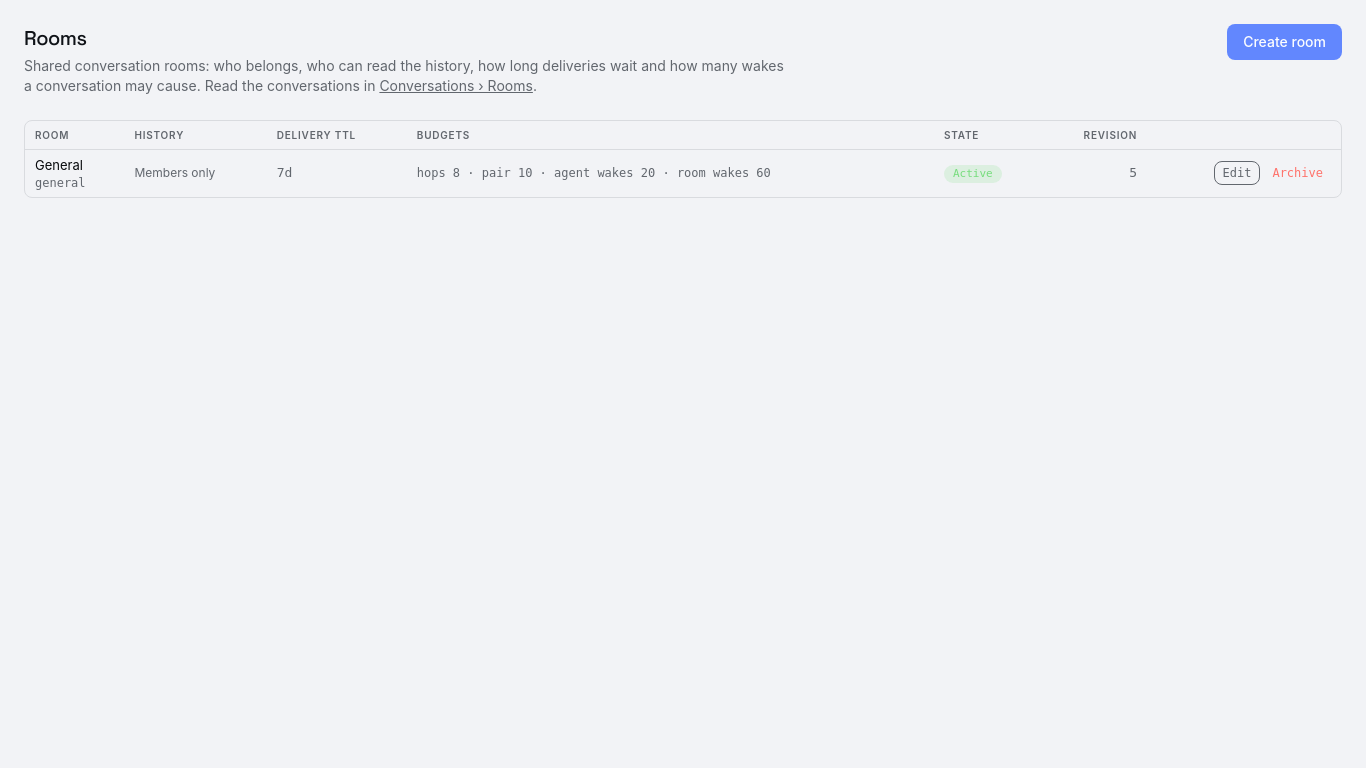
Scenario: archive › the dialog shows the preview counts and sends the reviewed revision
Step 1. Click the button with aria-label "Archive general" → click(1298, 173), box 1264,161 -> 1331,185
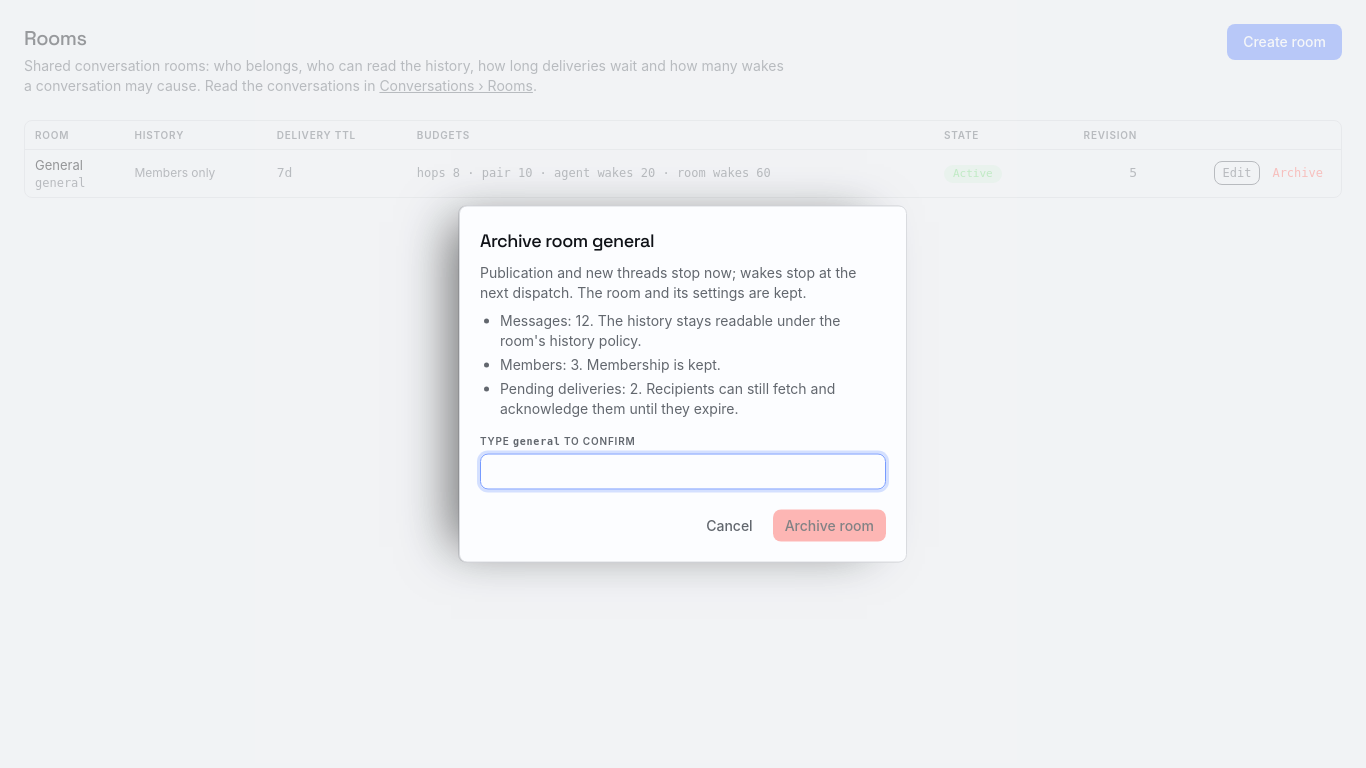
Check: the list named "Archive effects" shows "Messages: 12. The history stays readable", box 500,312 -> 840,416
Check: the list named "Archive effects" shows "Members: 3. Membership is kept.", box 500,312 -> 840,416
Check: the list named "Archive effects" shows "Pending deliveries: 2. Recipients can still fetch and acknowledge them", box 500,380 -> 835,416
Step 2. Type "general" into the field → (683, 472), box 480,454 -> 886,490
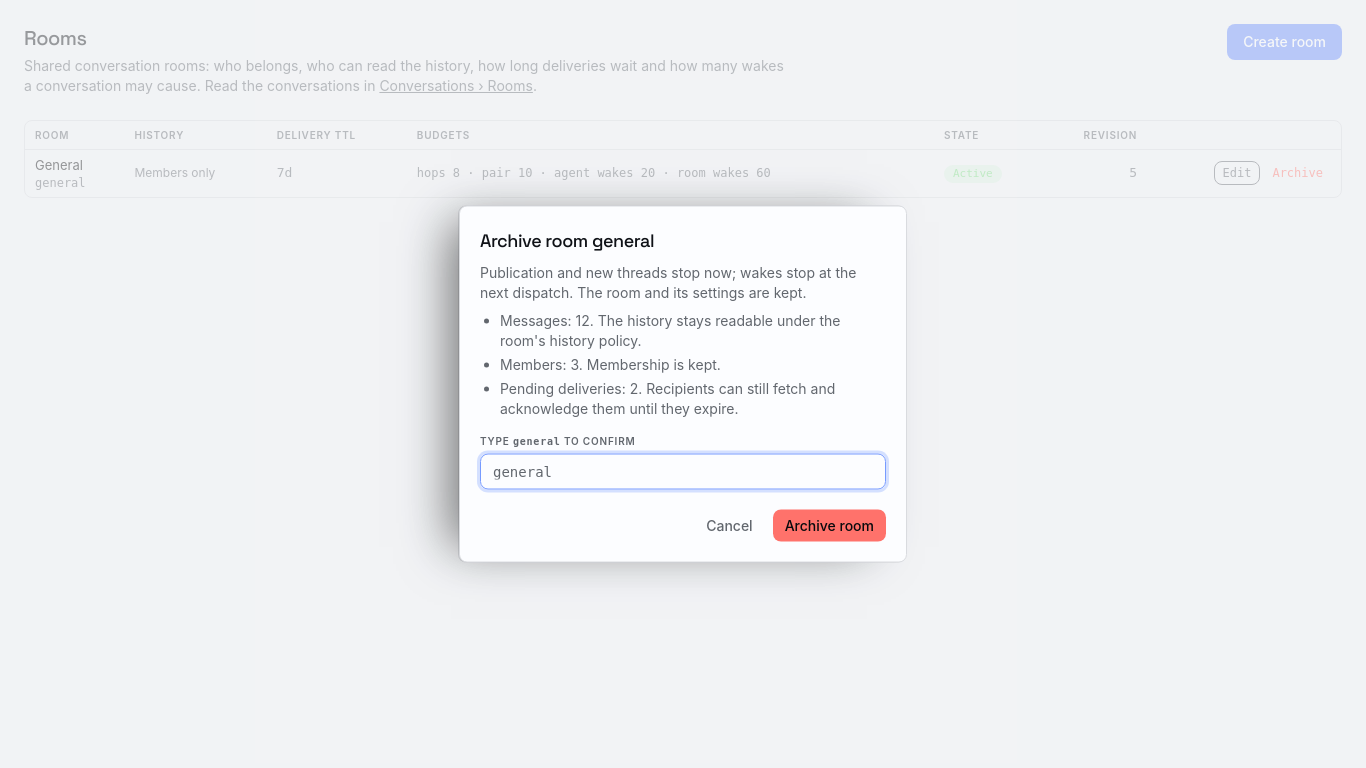
Step 3. Click the button "Archive room" → click(829, 526), box 773,510 -> 886,542
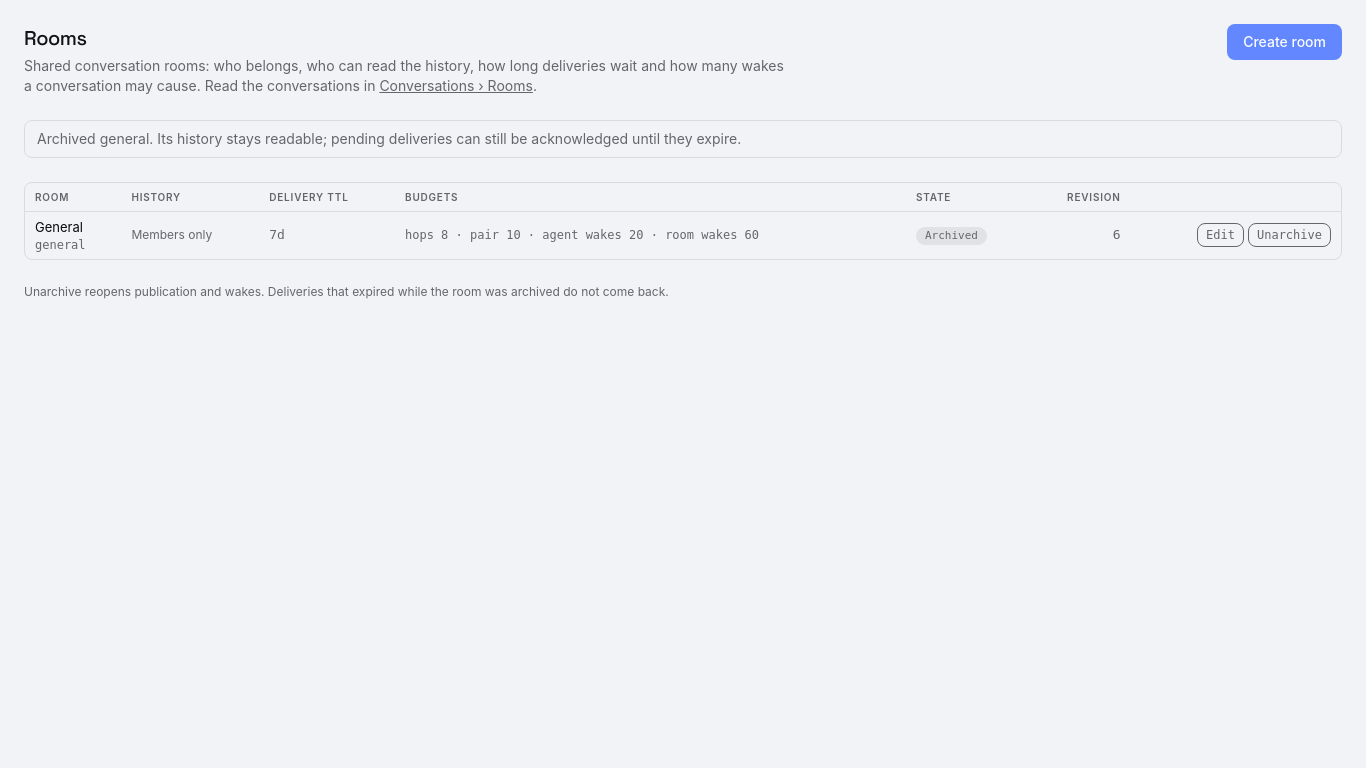
Check: the text "Archived general. Its history stays readable" is shown, box 37,130 -> 741,147
